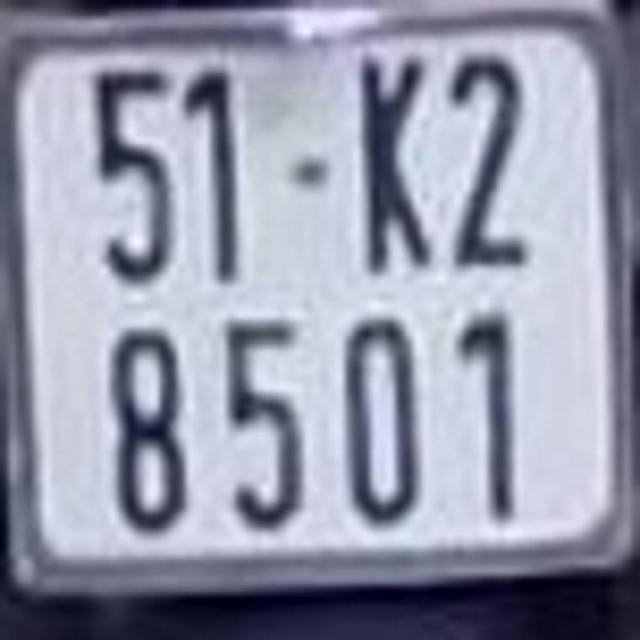0: (341, 306, 420, 527)
1: (178, 63, 254, 284), (455, 298, 526, 528)
2: (443, 48, 527, 275)
5: (86, 58, 178, 285), (219, 304, 302, 533)
8: (108, 322, 192, 532)
K: (356, 50, 434, 277)
